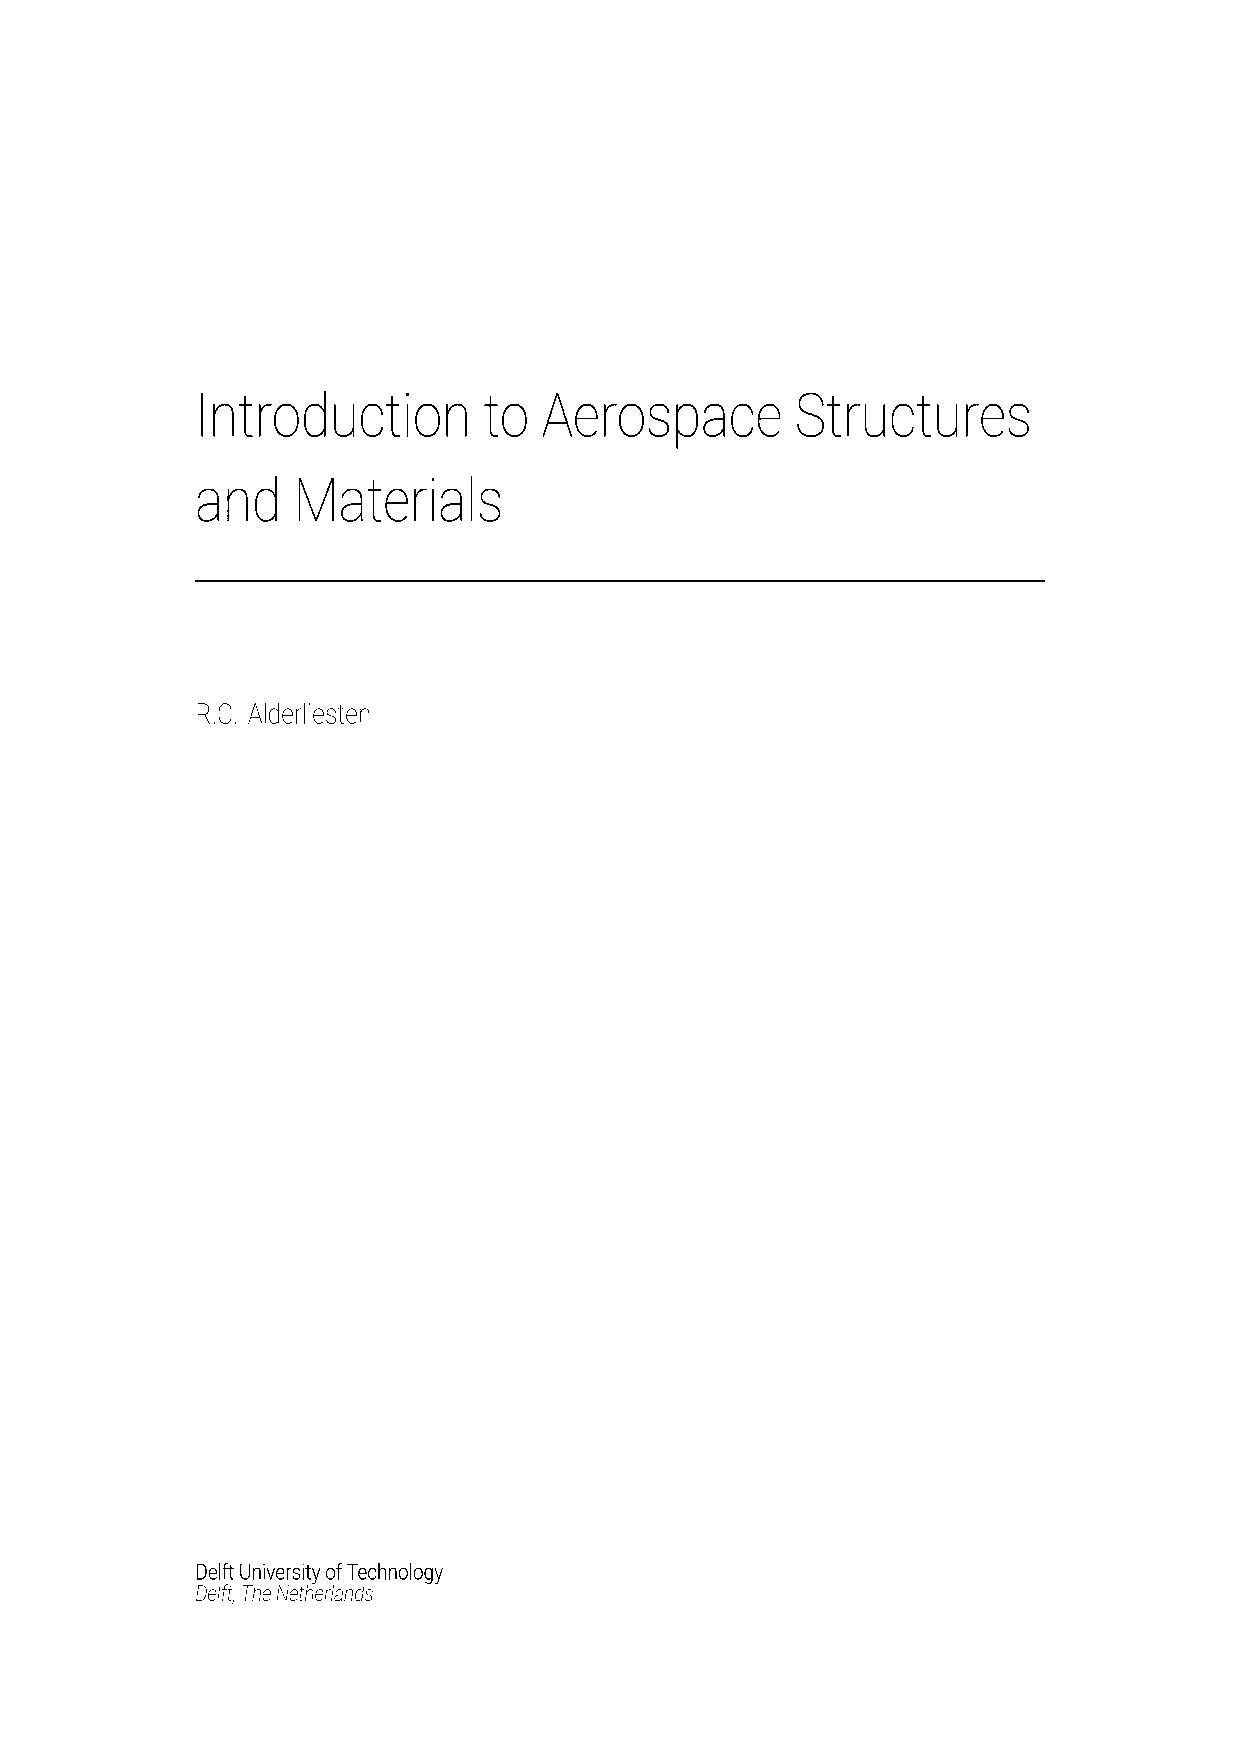author: (195, 698, 372, 727)
title: (197, 389, 1032, 525)
